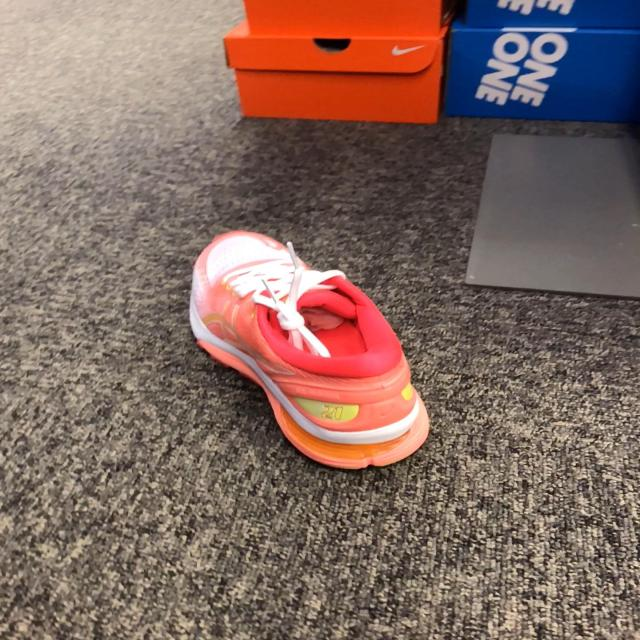shoe: (189, 230, 430, 470)
